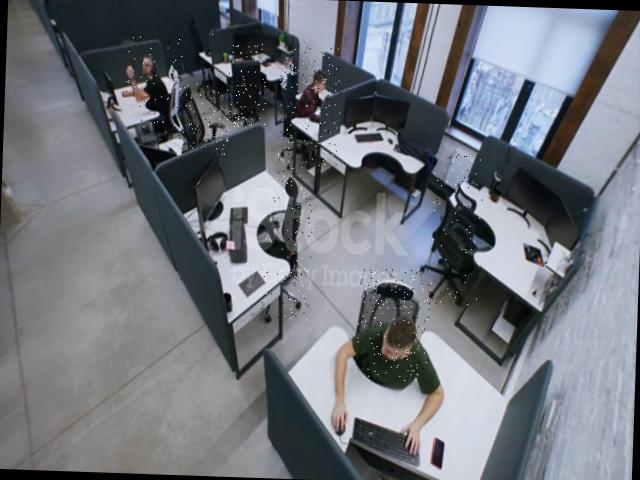empty chair: (261, 170, 317, 321), (430, 153, 484, 306), (178, 83, 232, 157), (225, 42, 268, 130), (184, 4, 222, 84)
occupiedchair: (356, 268, 430, 382), (278, 46, 342, 170), (125, 33, 184, 127)
